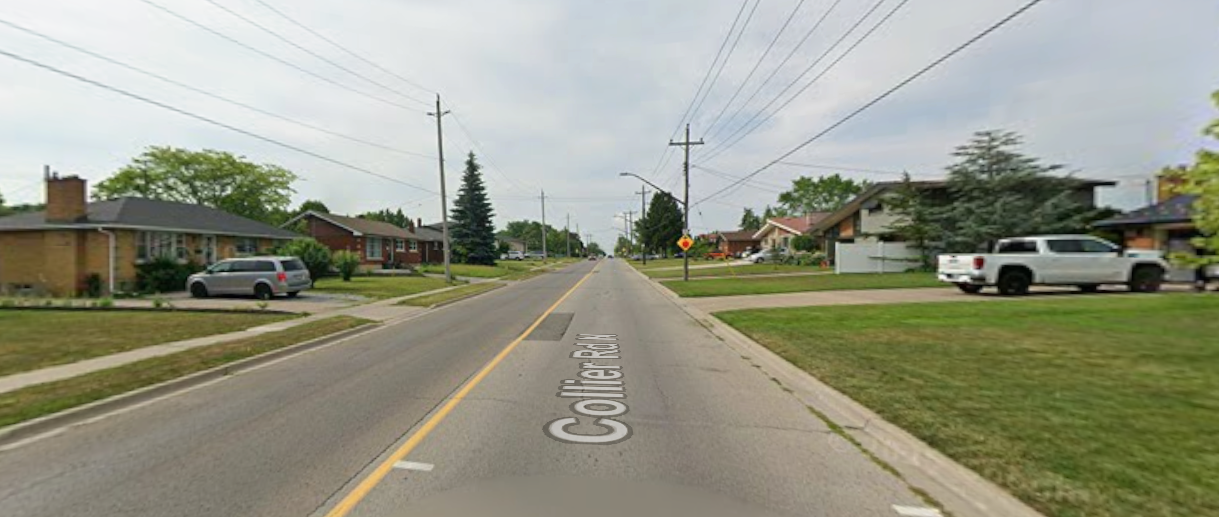cracks: (520, 311, 580, 344)
